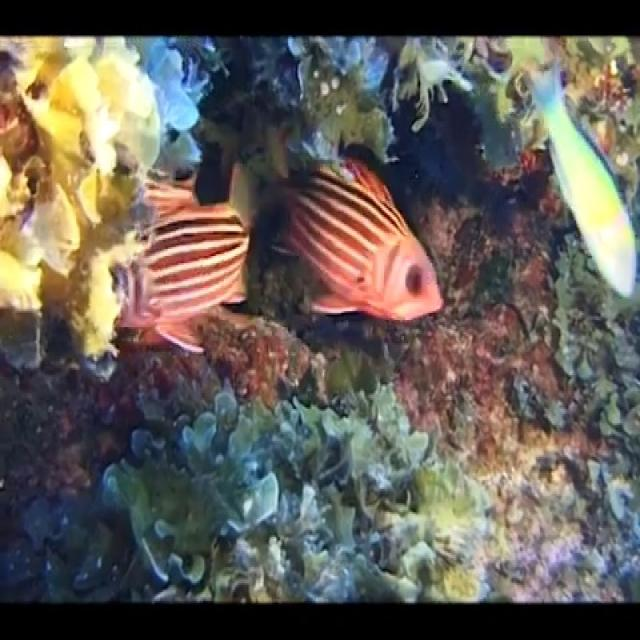Asker Baligi: (271, 151, 445, 325)
